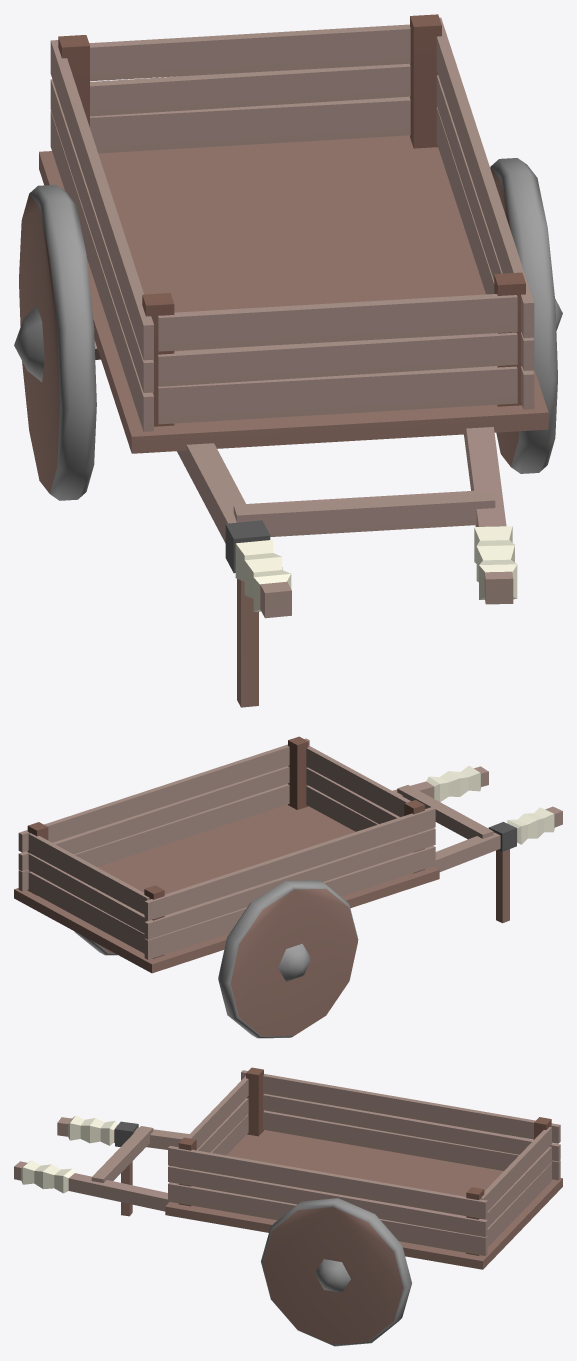
File: n4_cart_001_lev4.004.glb
3 renders of one model, top to bottom at view 1: azimuth 30°, elevation 25°; view 2: azimuth 150°, elevation 25°; view 3: azimuth 270°, elevation 25°, orthographic. The views are drawn at different scales.
Parts seen in each view (by area): view 1: n4_cart_001_lev4.004; view 2: n4_cart_001_lev4.004; view 3: n4_cart_001_lev4.004.
Boxes of the visible parts, box(x1,y1,x2,y2) form: n4_cart_001_lev4.004: box(14, 14, 562, 707); n4_cart_001_lev4.004: box(14, 736, 562, 1038); n4_cart_001_lev4.004: box(14, 1067, 562, 1346).
Bounding box in the file's own units: 3.88 × 1.99 × 6.01.
1 material, 1 textured.
